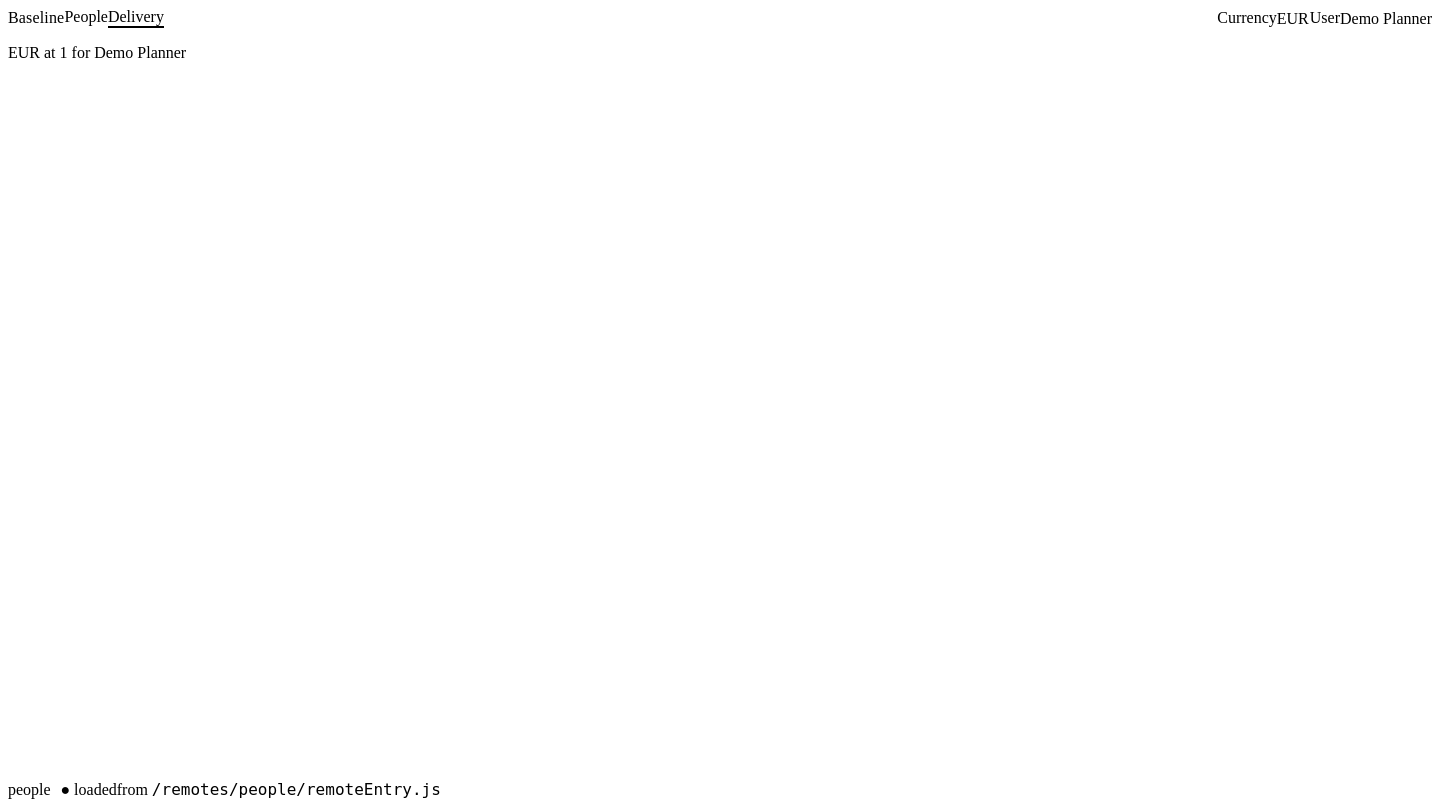
Test: the currency and user switchers › push a new user the same way
Expected: the text "EUR at 1 for Demo Planner" is shown, [8, 44, 186, 61]
Select "Demo Lead" in the dropdown labelled "User" at (1386, 18), box [1340, 10, 1432, 26]
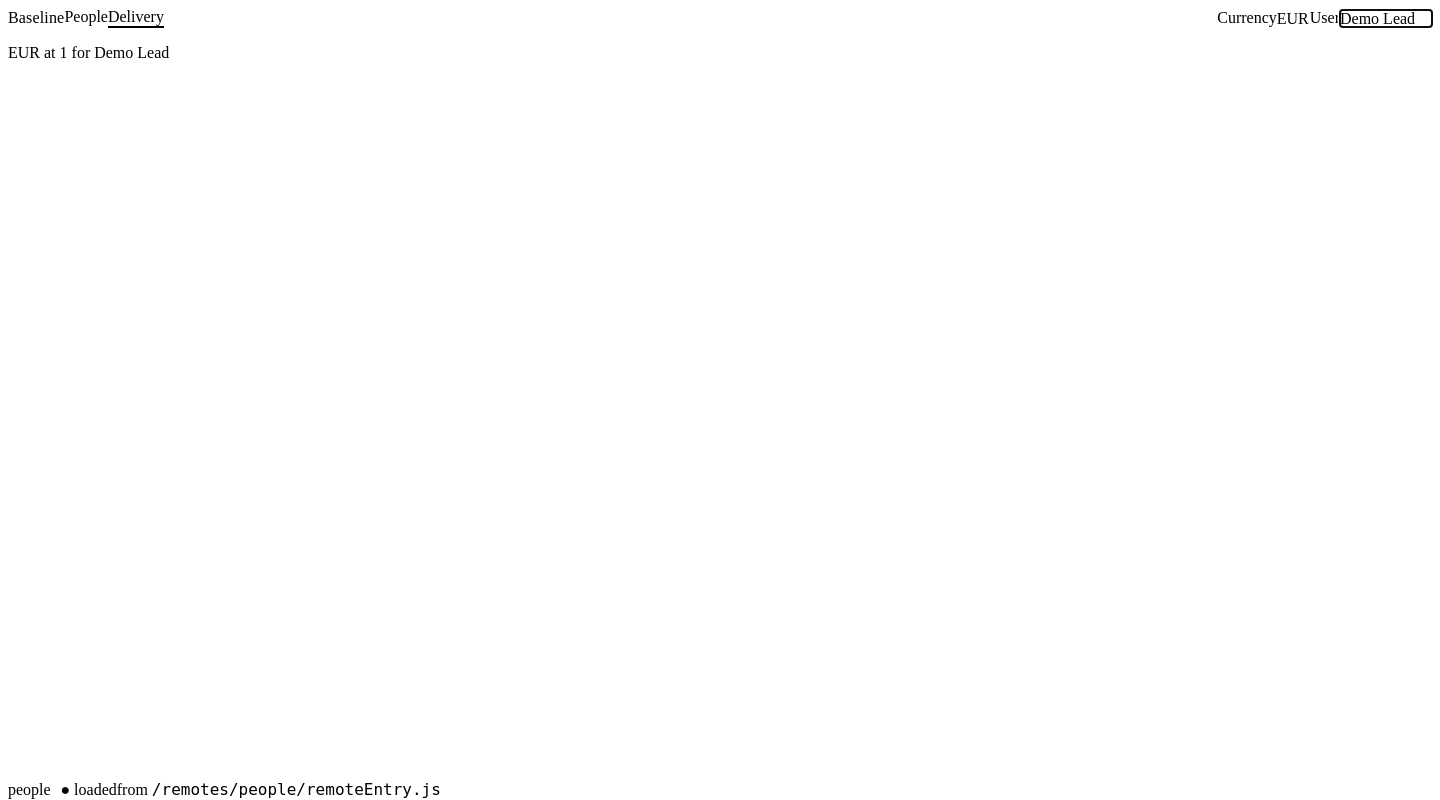
Expected: the text "EUR at 1 for Demo Lead" is shown, [8, 44, 169, 61]
